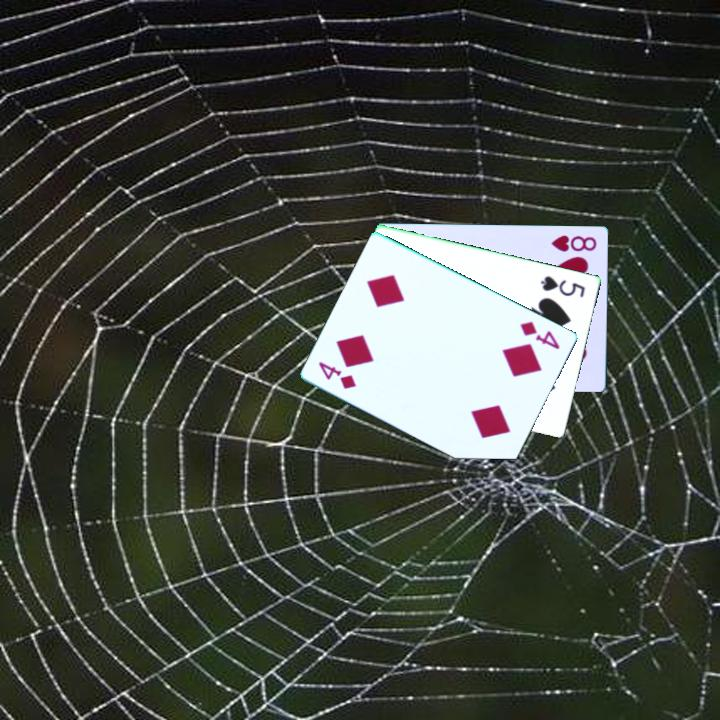4d: (517, 317, 563, 352), (316, 358, 360, 392)
5s: (537, 272, 589, 300)
8h: (548, 231, 600, 254)
